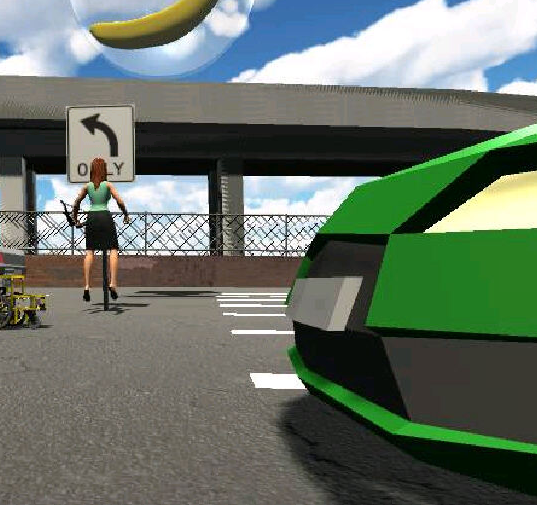arrow_left: (75, 112, 123, 157)
